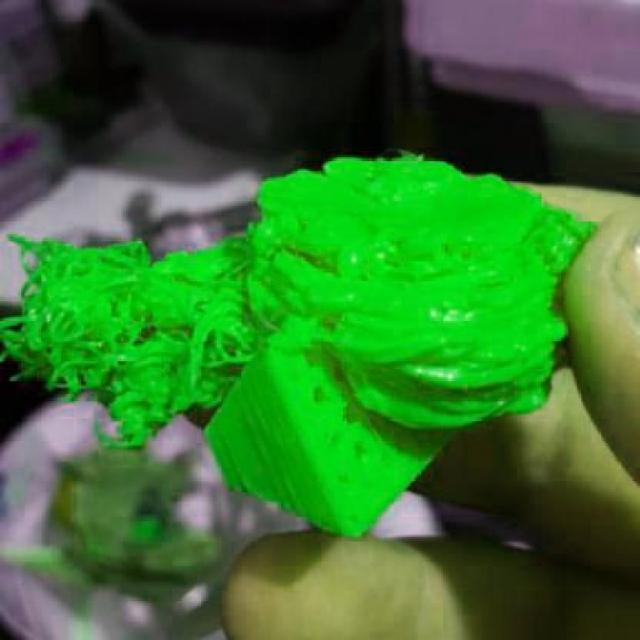spaghetti: (6, 230, 255, 450)
